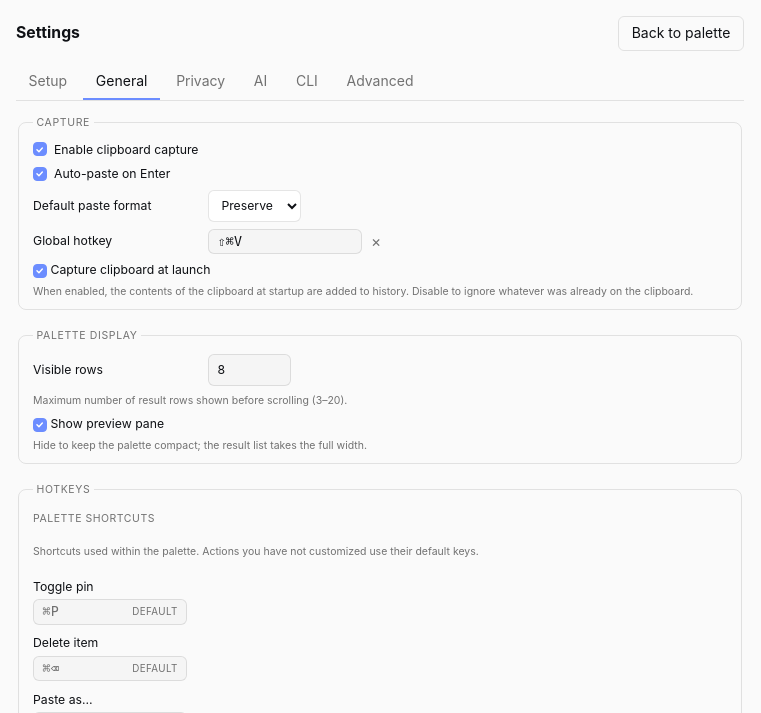
Test: SettingsView Advanced tab — capability table › renders macOS capabilities — every cap available except Accessibility-gated auto-paste
The image size is (761, 713).
Click the tab "Advanced" at (380,82), box [334,65,426,100]
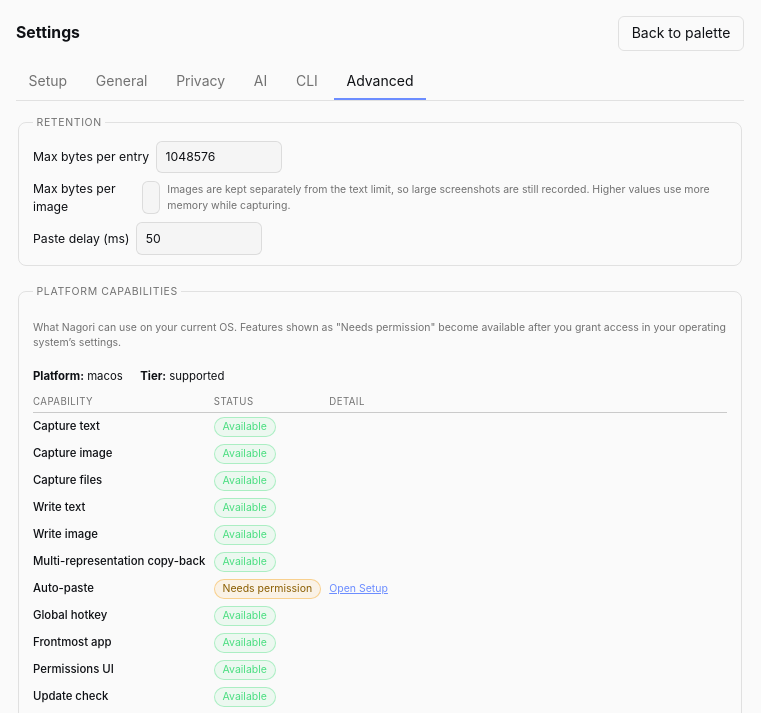
Expected: the text "Platform capabilities" is shown, [33,284,181,299]
Expected: the text with class "capability-status" reads "Needs permission", [222,582,312,595]
Expected: the text with class "capability-status" next to "Capture text" reads "Available", [222,420,267,433]
